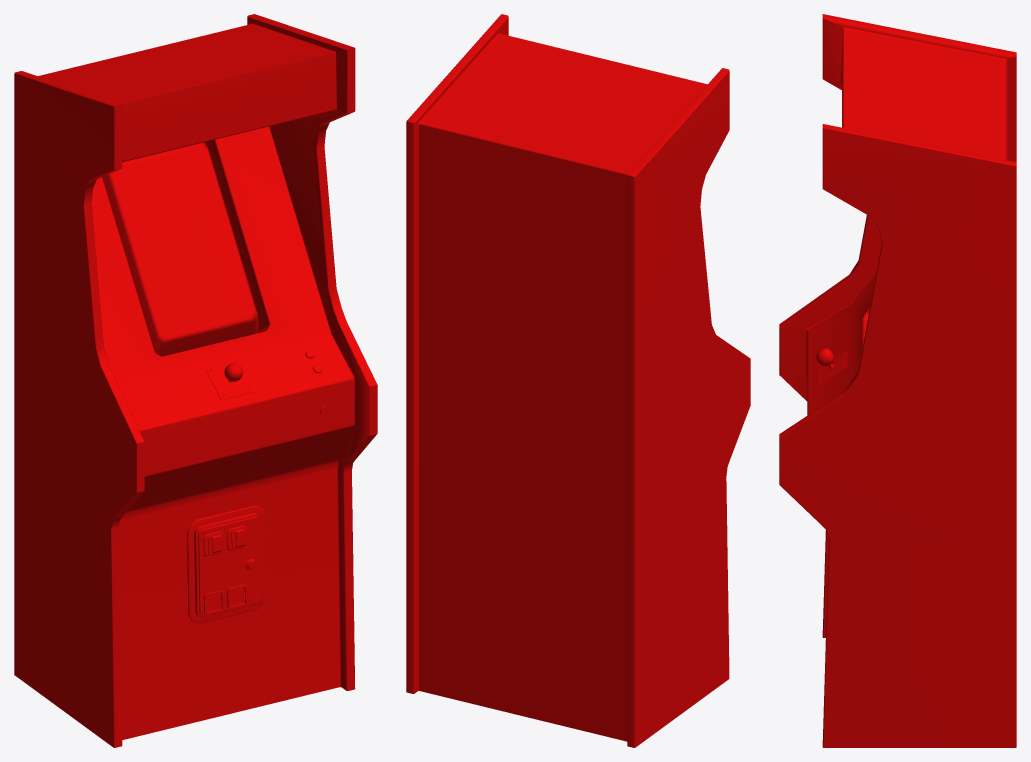
File: snake.fbx
The picture shows the model from 3 angles, left to right: view 1: azimuth 30°, elevation 25°; view 2: azimuth 150°, elevation 25°; view 3: azimuth 270°, elevation 25°; orthographic projection. The views are drawn at different scales.
Parts seen in each view (by area): view 1: polySurface33; view 2: polySurface33; view 3: polySurface33.
Boxes of the visible parts, x1,y1,x2,y2 form: polySurface33: [14, 14, 377, 747]; polySurface33: [406, 14, 750, 747]; polySurface33: [779, 14, 1016, 747].
Size of the model in its own units: 88.48 by 225 by 77.87.
